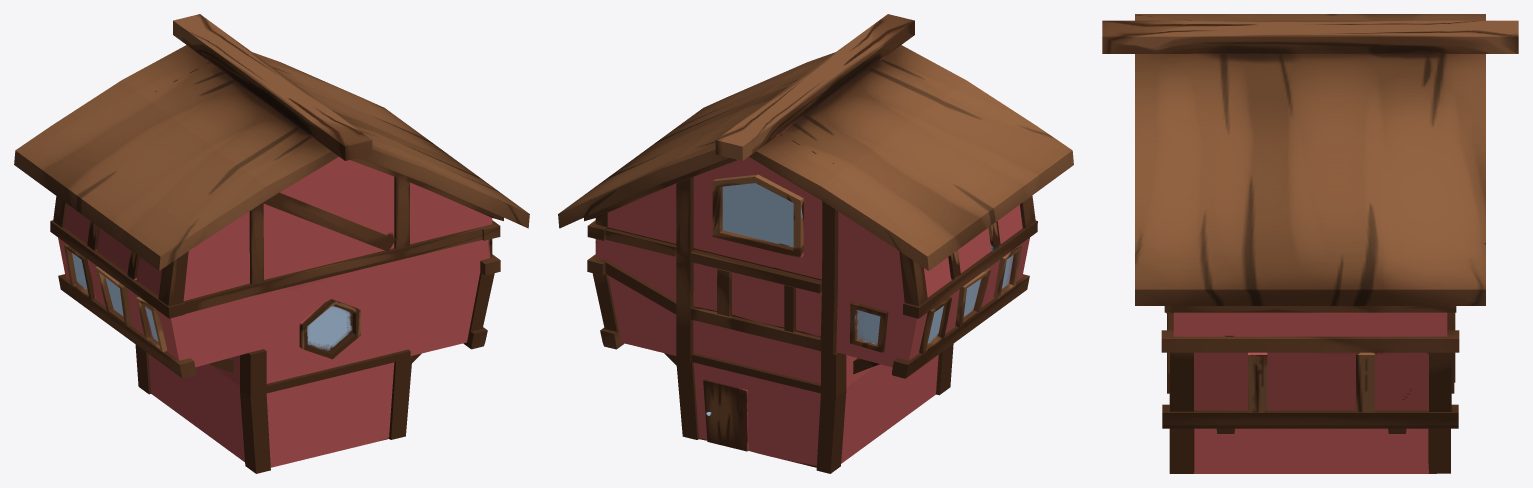
File: batiment1_rouge.fbx
The picture shows the model from 3 angles, left to right: view 1: azimuth 30°, elevation 25°; view 2: azimuth 150°, elevation 25°; view 3: azimuth 270°, elevation 25°; orthographic projection. The views are drawn at different scales.
Parts seen in each view (by area): view 1: Batiment5; view 2: Batiment5; view 3: Batiment5.
Boxes of the visible parts, box(x1,y1,x2,y2) form: Batiment5: box(14, 14, 529, 473); Batiment5: box(558, 14, 1073, 473); Batiment5: box(1102, 14, 1518, 473).
Bounding box in the file's own units: 6430 × 5499 × 5172.
Materials: 1 (1 with a texture image).
